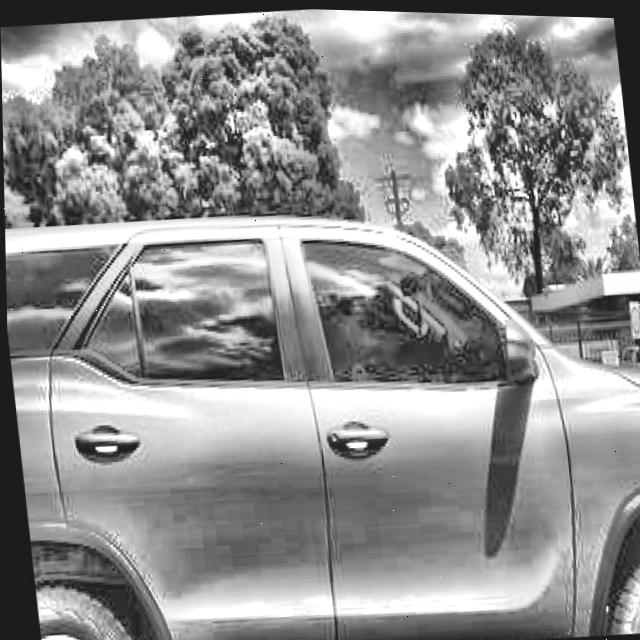light_vehicle: (3, 170, 640, 640)
